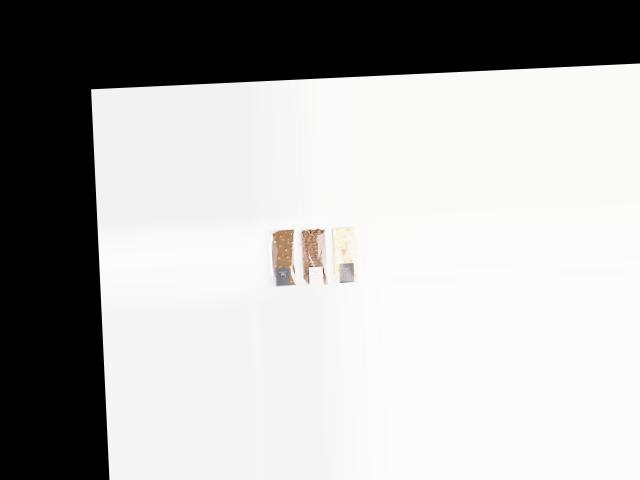chocolate: (261, 223, 298, 285)
